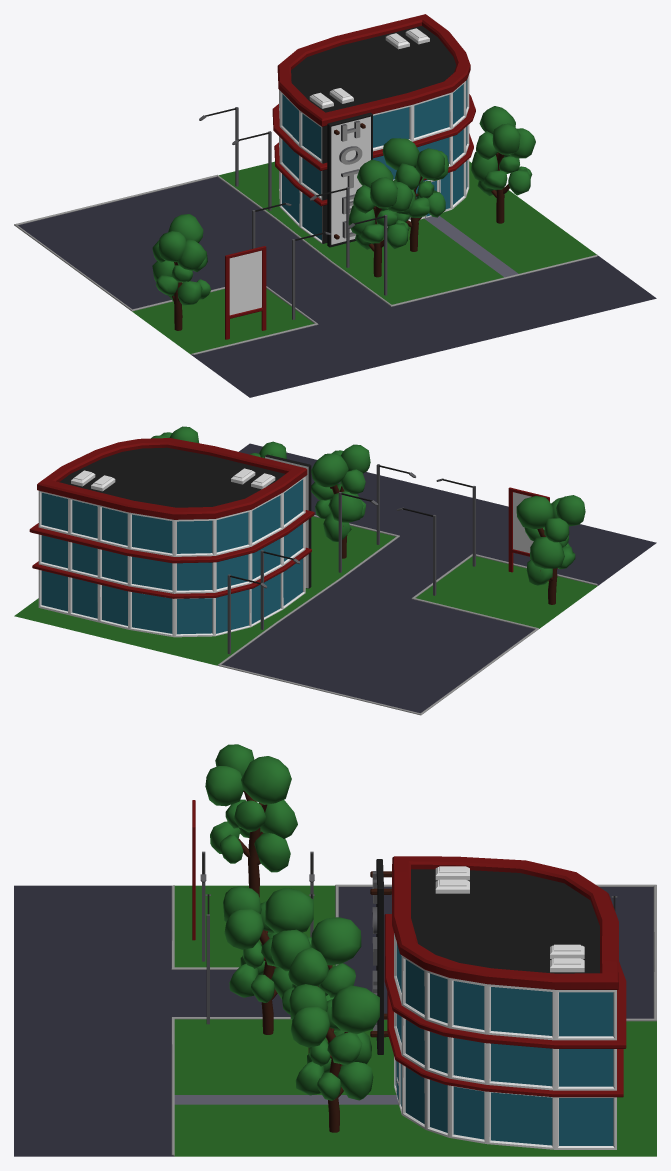
Rendered from hostel.FBX.
The picture shows the model from 3 angles, top to bottom: view 1: azimuth 30°, elevation 25°; view 2: azimuth 150°, elevation 25°; view 3: azimuth 270°, elevation 25°; orthographic projection. The views are drawn at different scales.
Parts seen in each view (by area): view 1: bordur; view 2: bordur; view 3: bordur.
Part boxes in pixels (left/top/right/bottom): bordur: left=14, top=14, right=656, bottom=397; bordur: left=14, top=426, right=656, bottom=715; bordur: left=14, top=744, right=656, bottom=1156.
Size of the model in its own units: 946 by 930 by 278.
